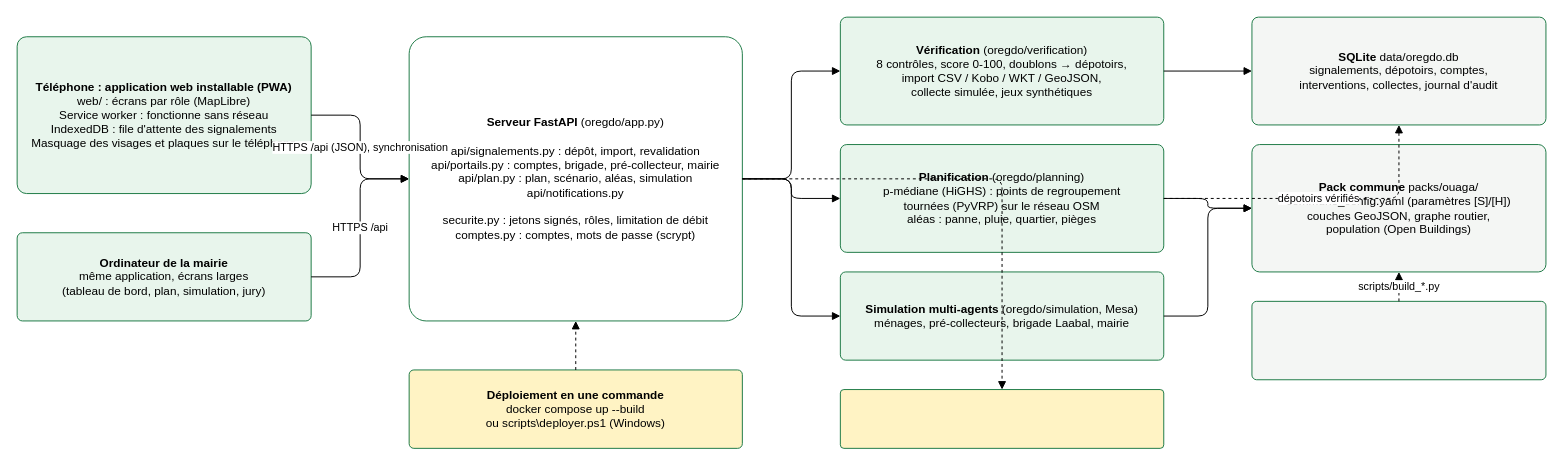
Some shapes in this 1563 by 466 pixel diagram are drawn without their labels. Each missing label, with the centre of its shape:
"Bien commun : export OpenStreetMap (.osm, GeoJSON ODbL)" goes at (x=1001, y=418).
"Données ouvertes OpenStreetMap, Google Open Buildings, RGPH 2019" goes at (x=1398, y=340).
